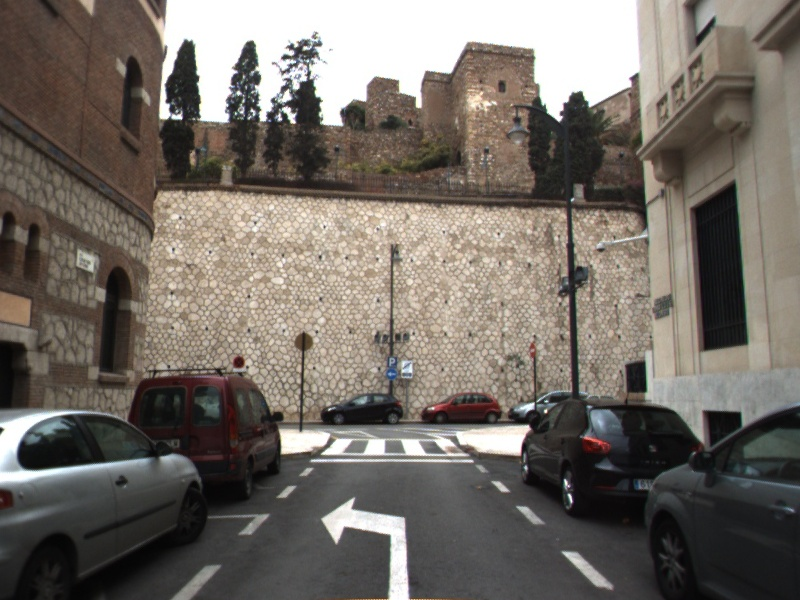LEFT: (317, 491, 411, 600)
